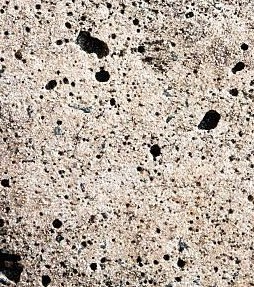Spalling: (1, 1, 254, 287)
